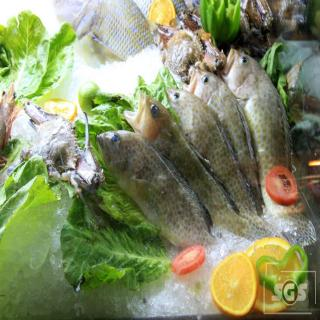Lemon: (246, 234, 300, 314), (209, 252, 257, 319), (37, 100, 78, 125), (148, 2, 177, 34)
Orange: (244, 238, 301, 314), (212, 253, 260, 316), (148, 0, 177, 27)
